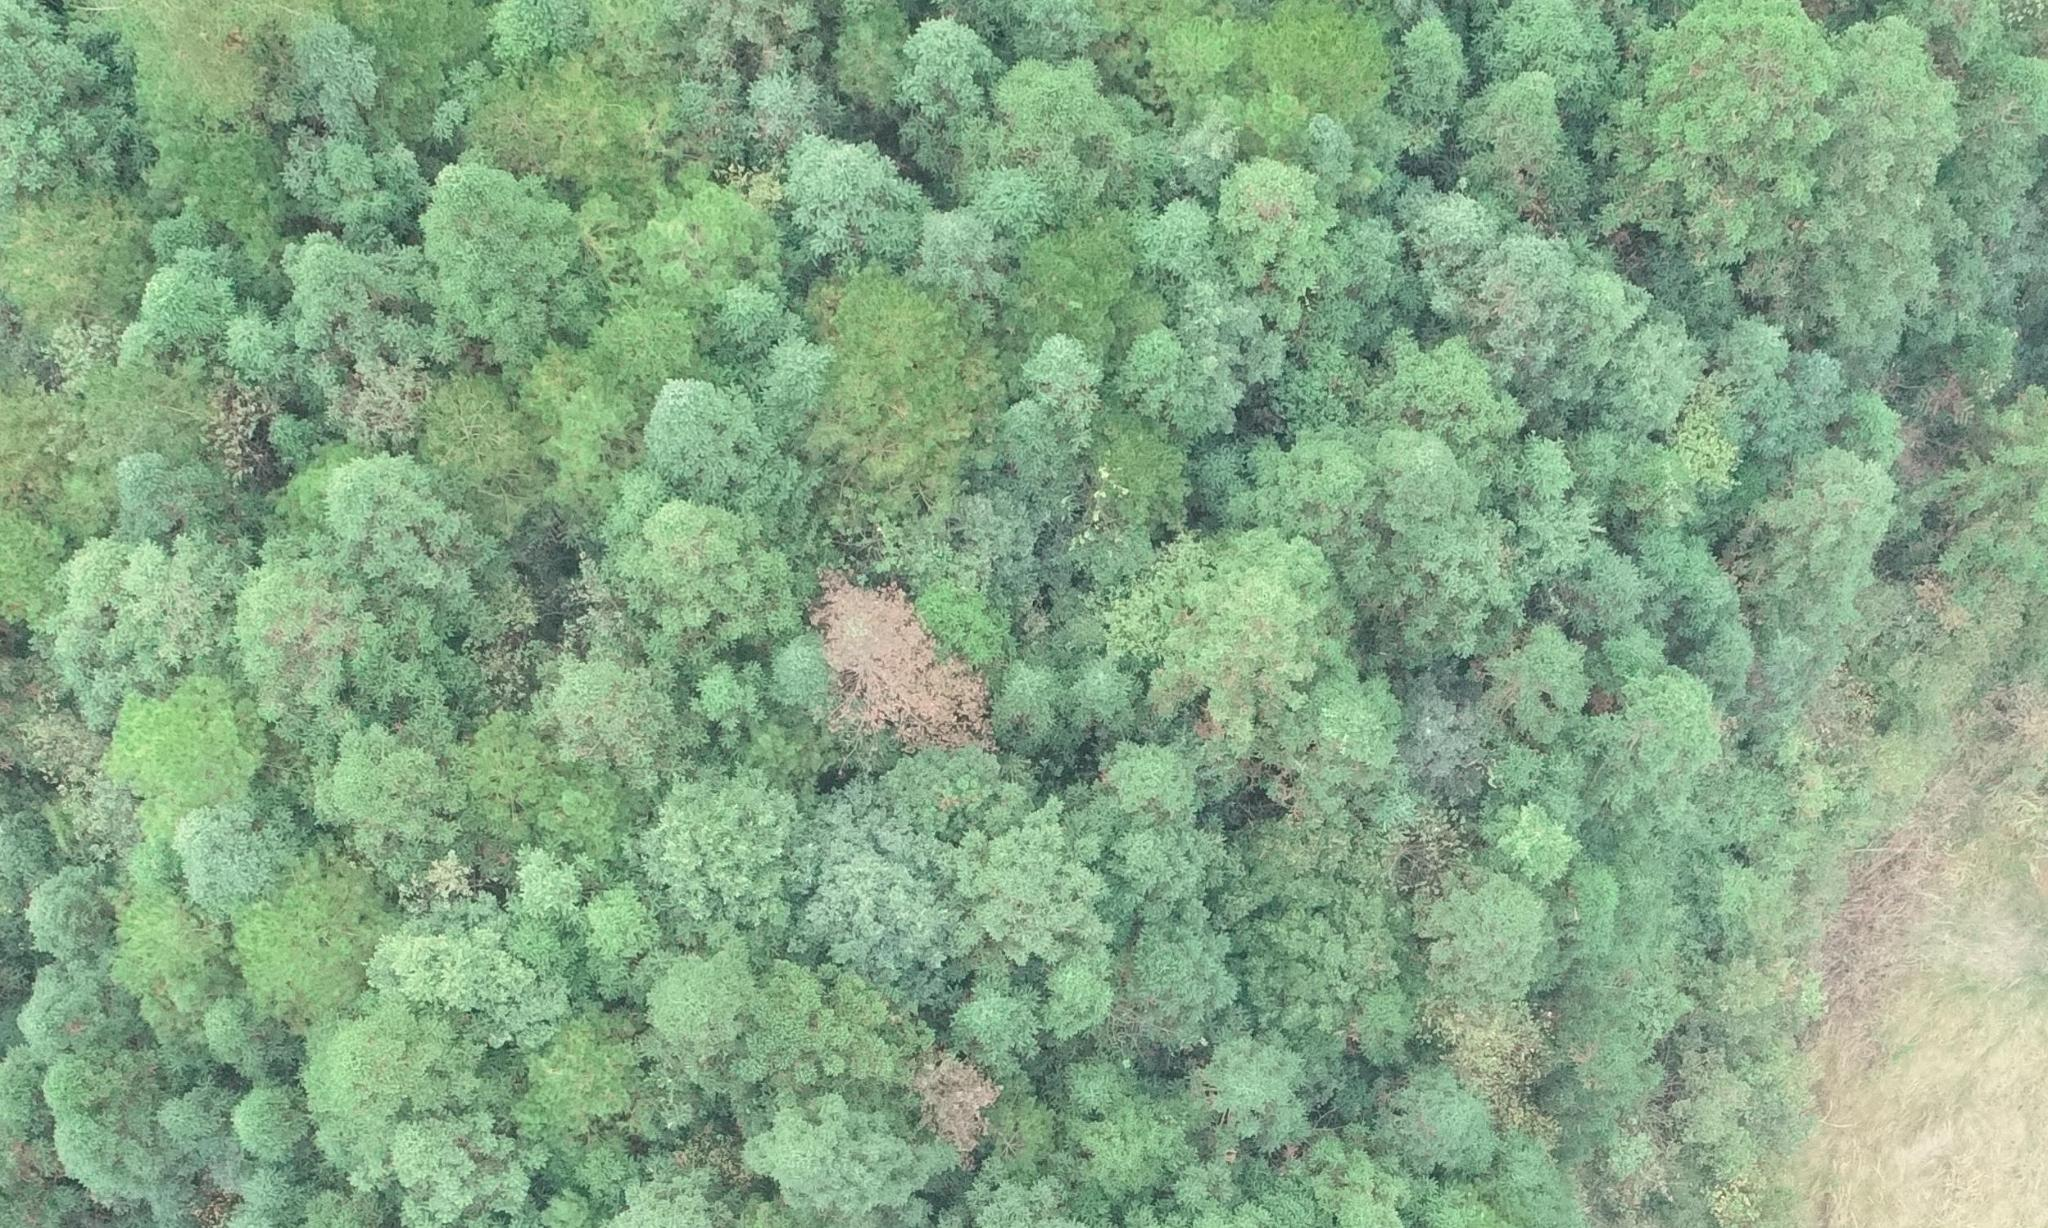heavy: (807, 563, 993, 759), (917, 1045, 1010, 1171)
